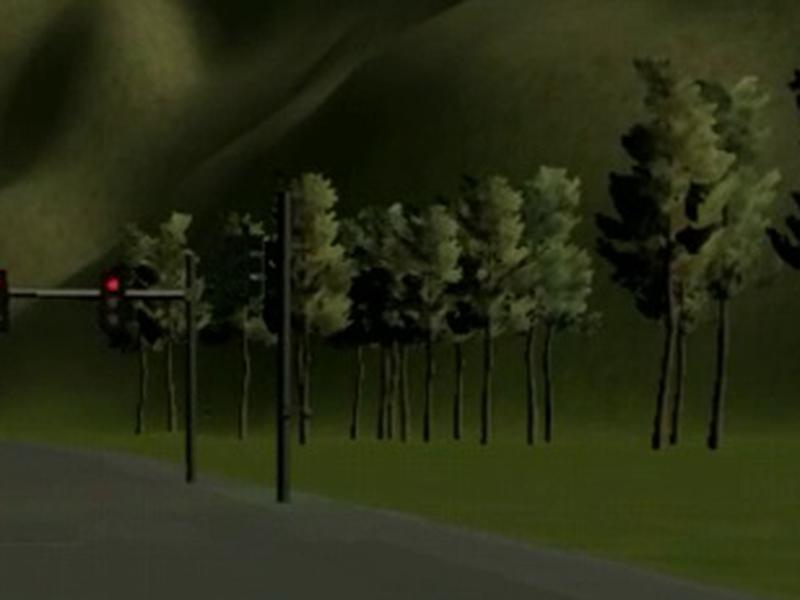Red: (101, 271, 124, 329)
